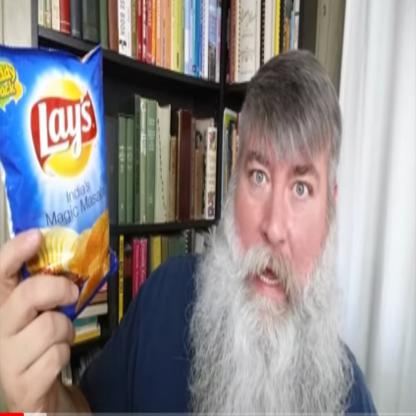indian_magic_masala: (0, 46, 118, 319)
